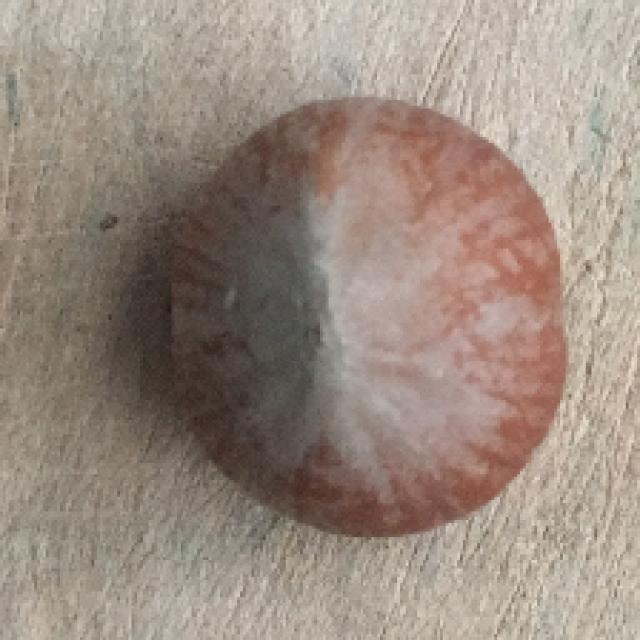QualityHazelnut: (164, 98, 570, 536)
